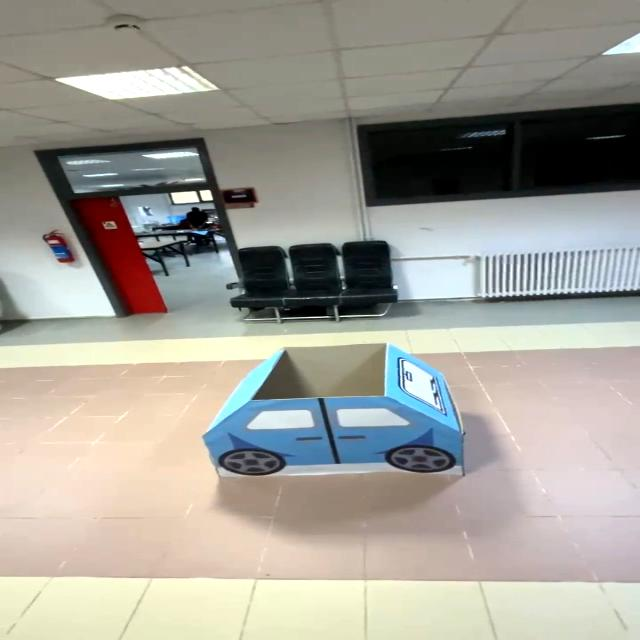blue_car: (164, 342, 472, 503)
